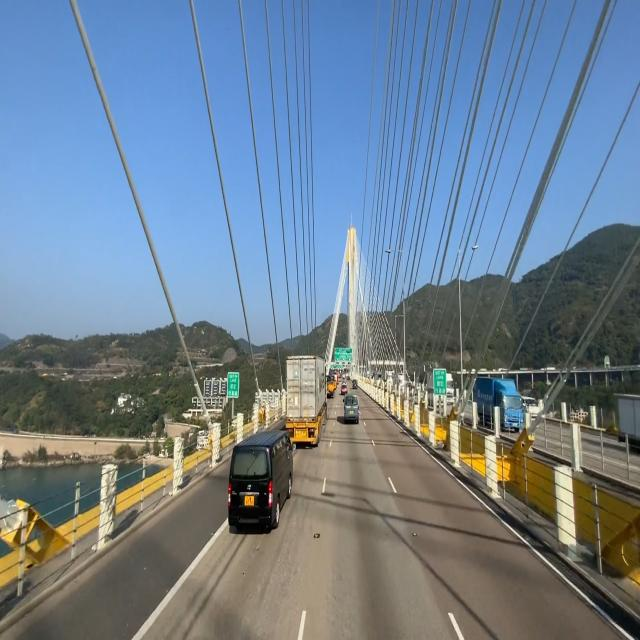Car: (228, 428, 296, 543), (286, 350, 329, 448), (341, 390, 361, 427)
